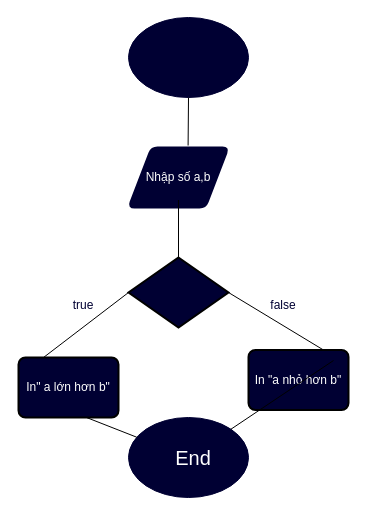
Some shapes in this 366 by 515 pixel diagram are drawn without their labels. Here are the shapes that lost their labels. From the top down, the box of each, then its label:
(128, 16, 248, 98): Start
(127, 256, 229, 328): a>b?
